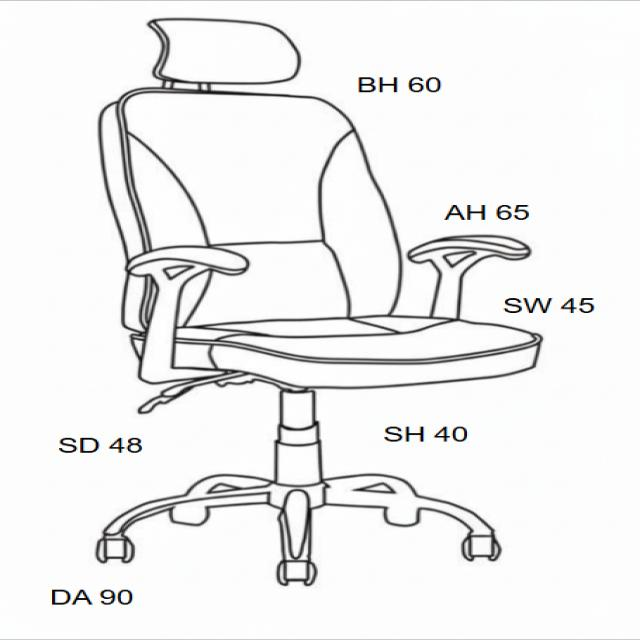5_Star_Base: (95, 470, 499, 563)
AH_Label: (441, 197, 534, 228)
Armrest: (117, 239, 264, 390), (395, 231, 539, 322)
BH_Label: (347, 69, 452, 103)
Backrest: (117, 86, 409, 331)
Caster_Wheel: (454, 533, 507, 564), (274, 558, 323, 588), (92, 537, 139, 564)
Control_Mechanism: (133, 371, 257, 415)
DA_Label: (46, 584, 139, 609)
Headrest: (143, 17, 306, 88)
SD_Label: (53, 430, 150, 461)
SH_Label: (379, 419, 473, 451)
SW_Label: (501, 290, 606, 321)
Seat: (174, 313, 546, 393)
